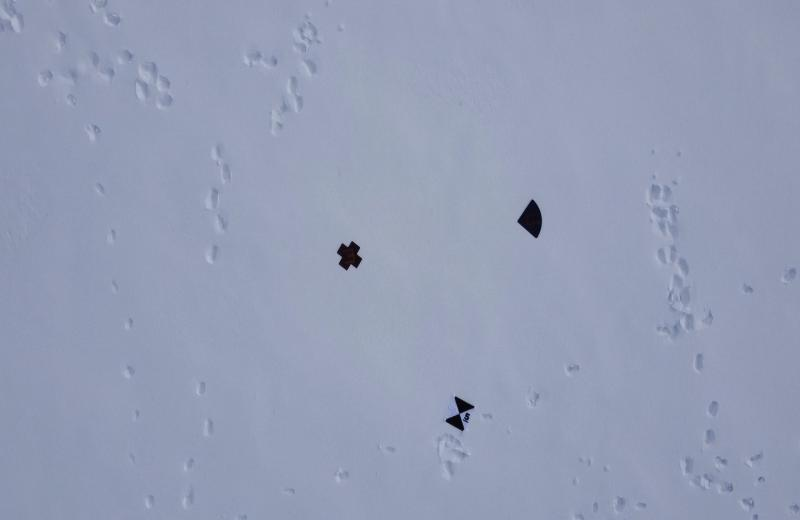Cross: (333, 238, 366, 272)
Quarter Circle: (516, 196, 544, 239)
